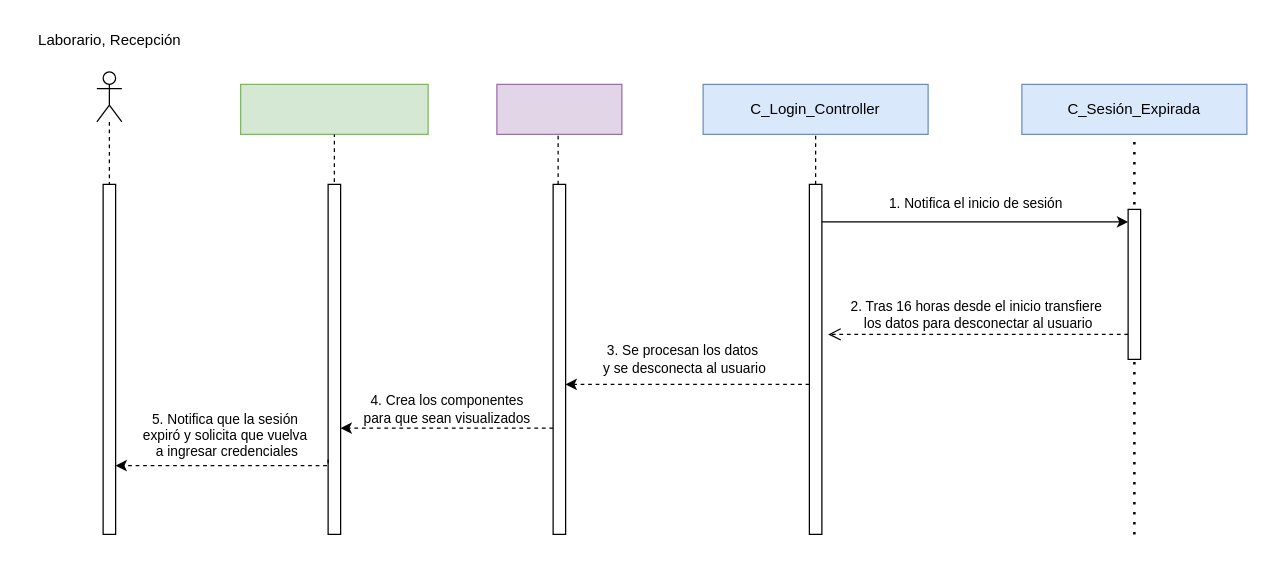
This 1269x569 diagram has some shape labels left out. Here are the shapes that lost their labels. From the top down, the box of each, then its label:
(239, 83, 428, 134): V_Inicio_de_Sesión
(496, 83, 622, 134): C_WebView2
